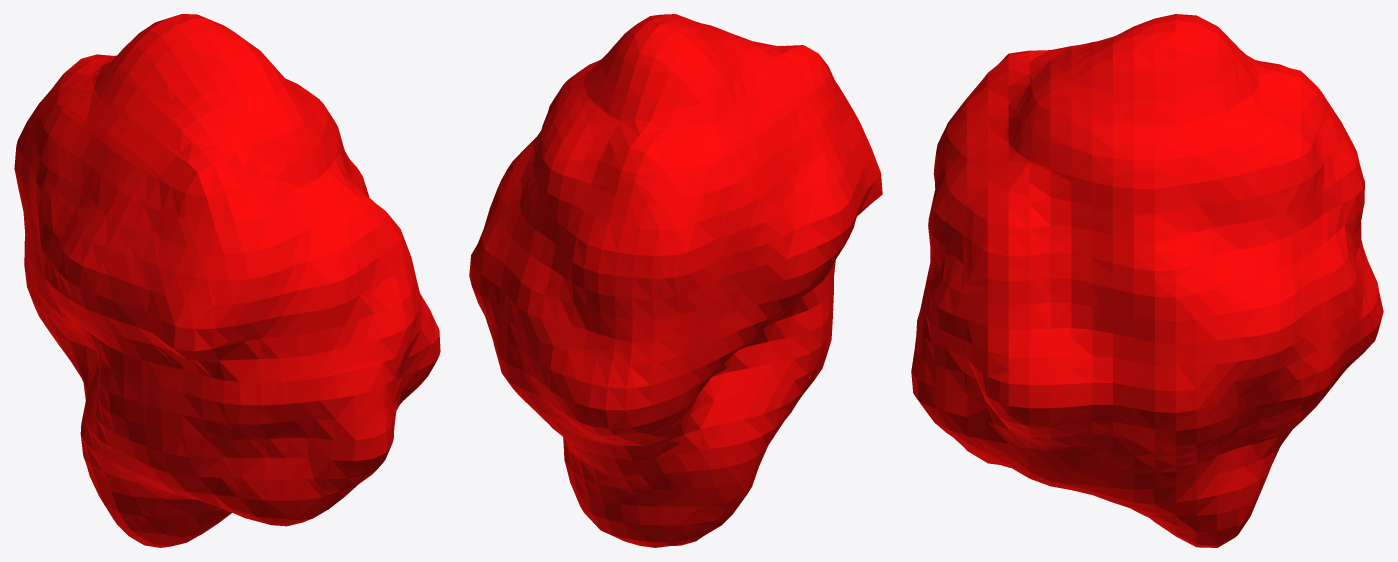
Rendered from hisH_coarse.dae.
The picture shows the model from 3 angles, left to right: view 1: azimuth 30°, elevation 25°; view 2: azimuth 150°, elevation 25°; view 3: azimuth 270°, elevation 25°; orthographic projection. The views are drawn at different scales.
Visible parts, largest first — view 1: hisH; view 2: hisH; view 3: hisH.
Boxes of the visible parts, x1,y1,x2,y2 form: hisH: [14, 14, 440, 547]; hisH: [469, 14, 882, 547]; hisH: [911, 14, 1383, 547].
Bounding box in the file's own units: 36.65 × 54.91 × 45.26.
